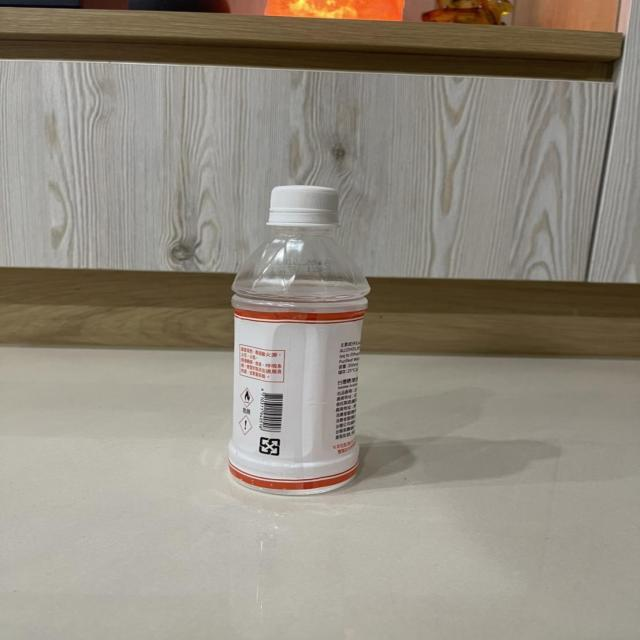bottle: (213, 167, 387, 504)
